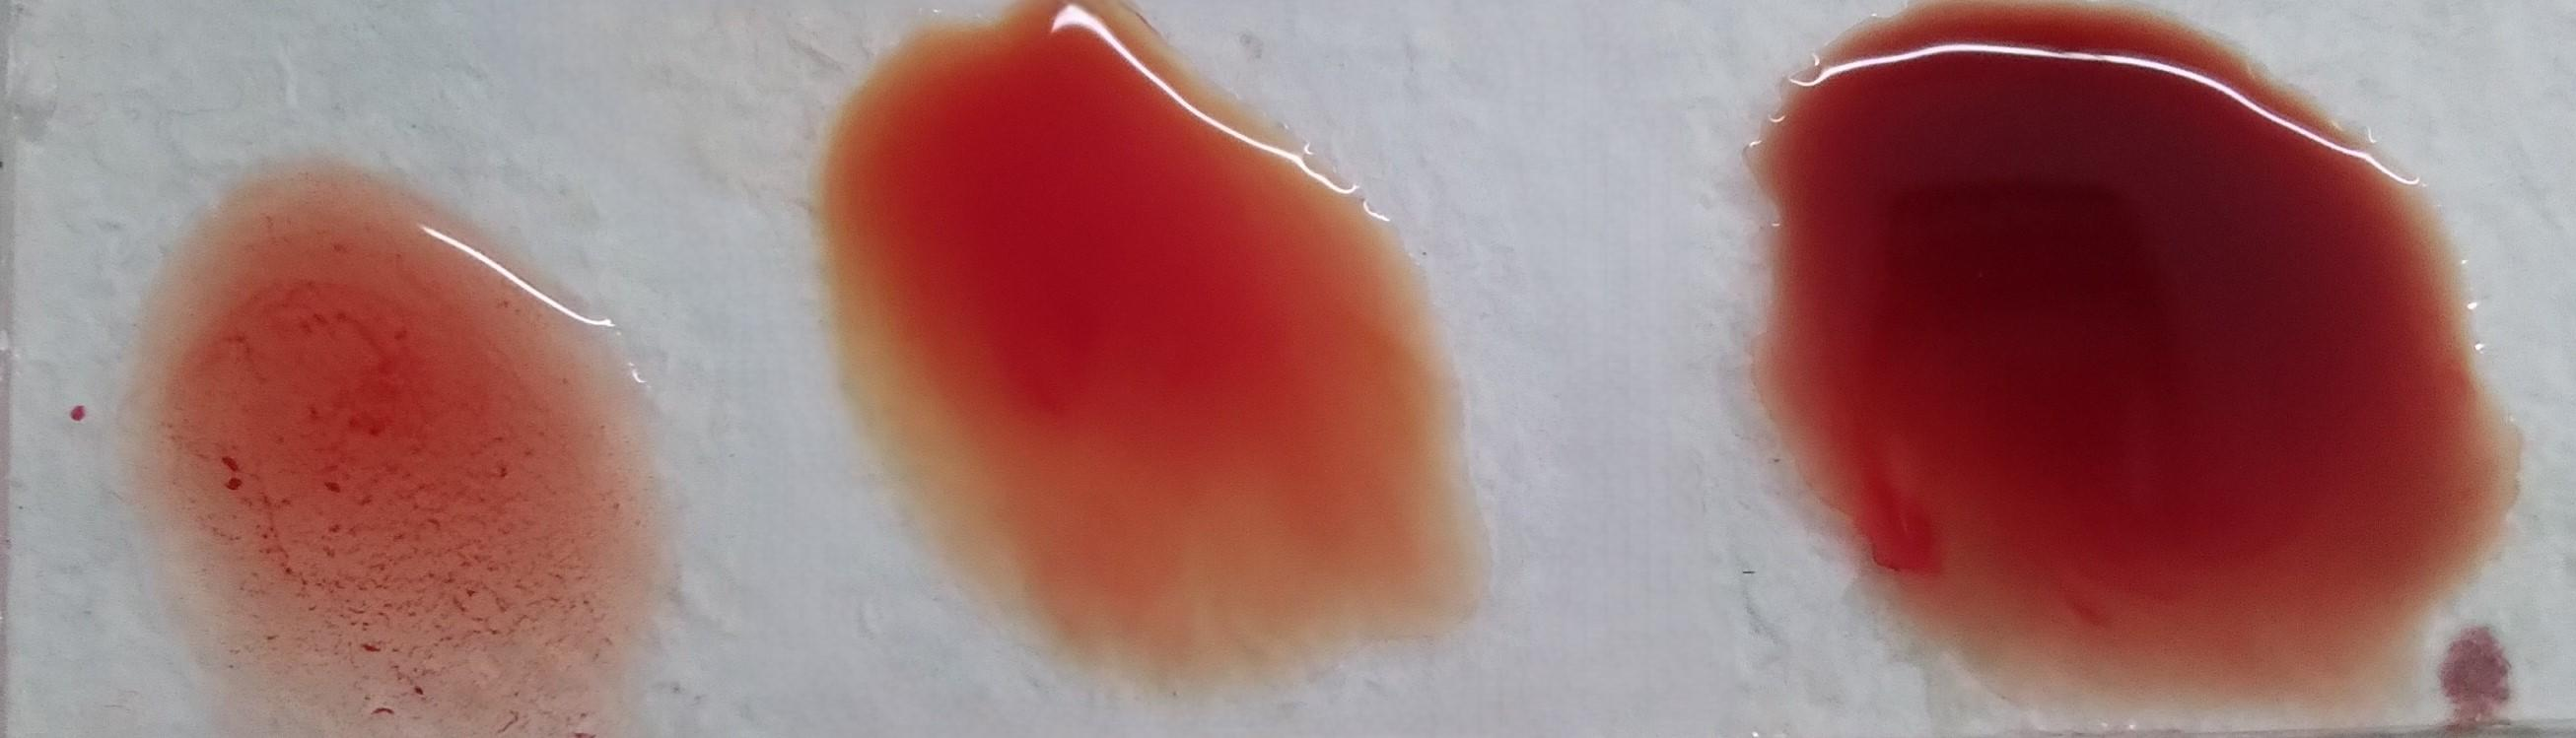D: (107, 171, 649, 738)
